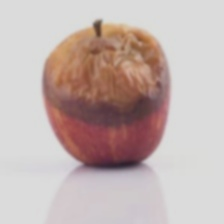apple: (34, 32, 220, 208)
